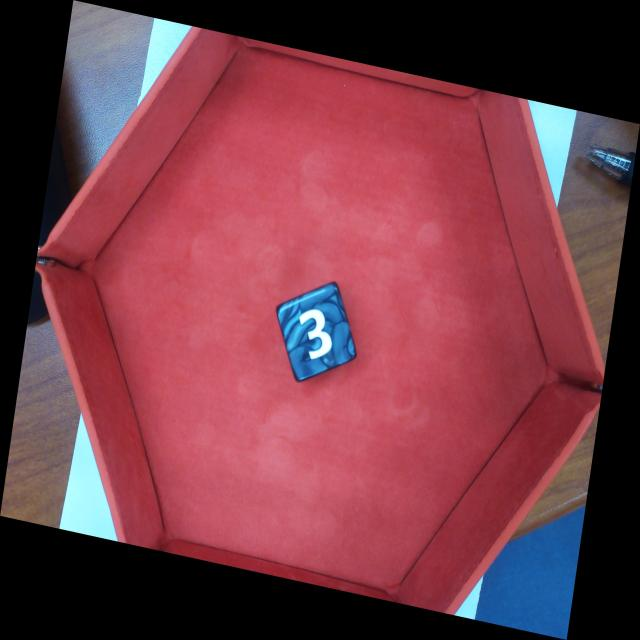dice: (272, 276, 359, 387)
